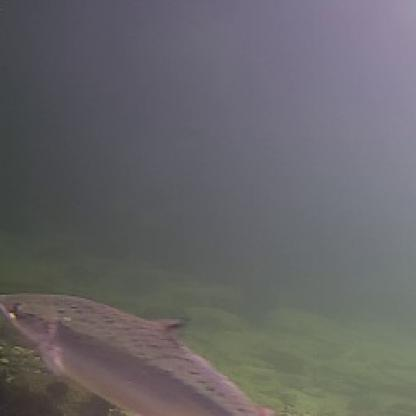salmon: (0, 290, 281, 414)
